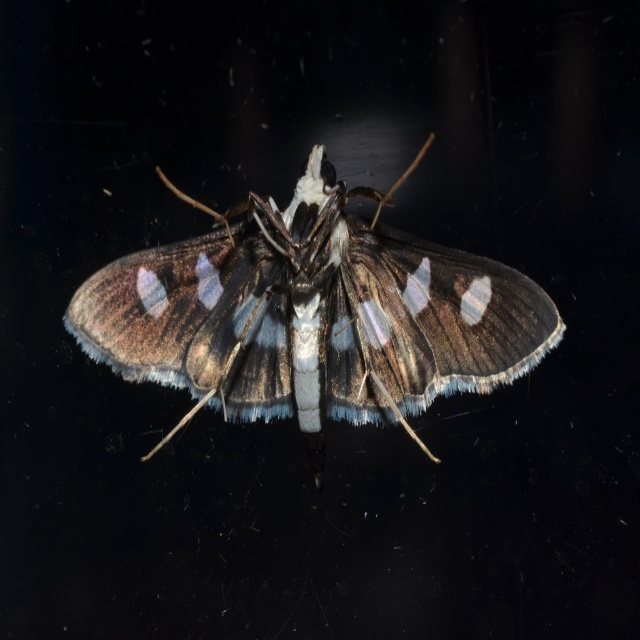Butterfly: (61, 124, 571, 474)
